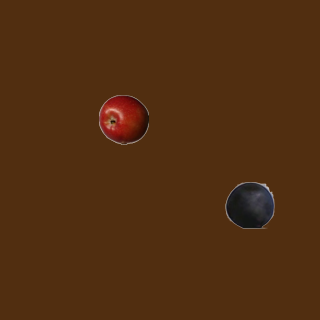Apple Braeburn: (98, 94, 148, 144)
Grape Blue: (224, 179, 274, 229)
